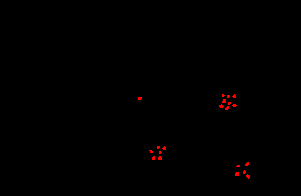Target: (219, 104, 224, 108), (246, 174, 250, 179), (232, 94, 236, 98), (222, 99, 226, 103), (225, 106, 229, 110), (162, 146, 166, 150), (158, 156, 162, 160), (245, 162, 249, 166), (235, 172, 239, 176), (232, 104, 237, 107), (138, 97, 142, 100), (149, 150, 153, 153), (152, 156, 155, 160), (243, 170, 246, 174), (222, 94, 225, 97), (227, 95, 230, 98), (228, 102, 231, 105), (157, 146, 160, 149), (159, 151, 162, 154), (236, 165, 240, 167)
